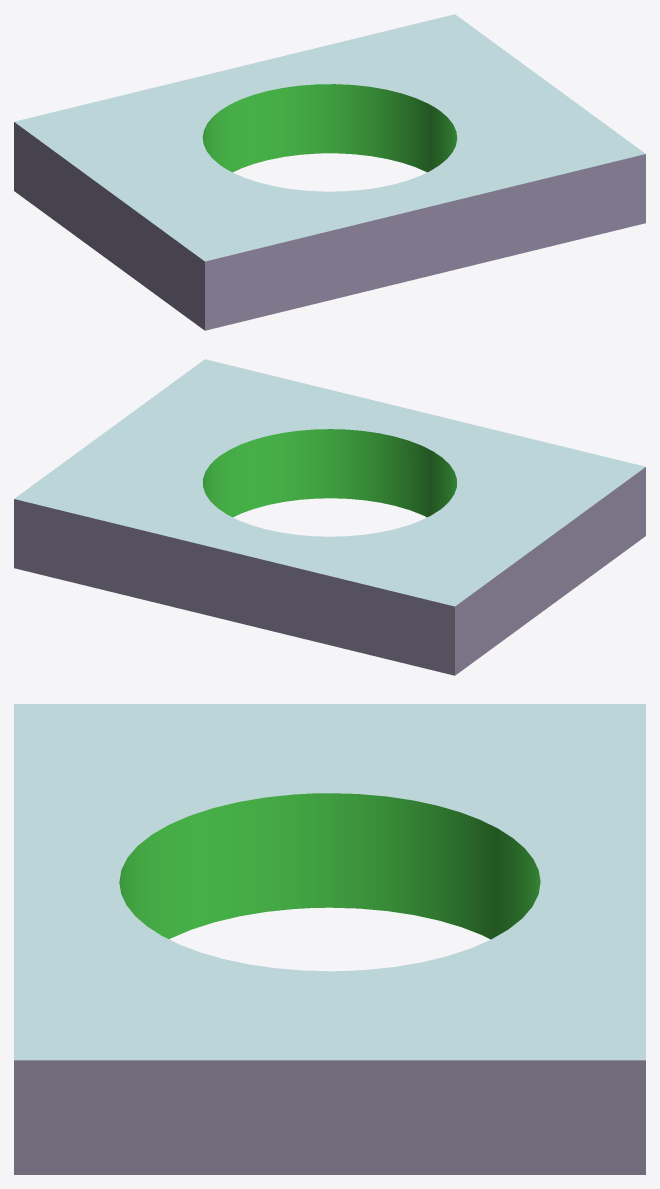
File: example.glb
The picture shows the model from 3 angles, top to bottom: view 1: azimuth 30°, elevation 25°; view 2: azimuth 150°, elevation 25°; view 3: azimuth 270°, elevation 25°; orthographic projection. The views are drawn at different scales.
Parts seen in each view (by area): view 1: Featured solid; view 2: Featured solid; view 3: Featured solid.
Boxes of the visible parts, x1=… form: Featured solid: x1=14, y1=14, x2=645, y2=330; Featured solid: x1=14, y1=359, x2=645, y2=675; Featured solid: x1=14, y1=704, x2=645, y2=1174.
Size of the model in its own units: 20 by 3 by 15.
